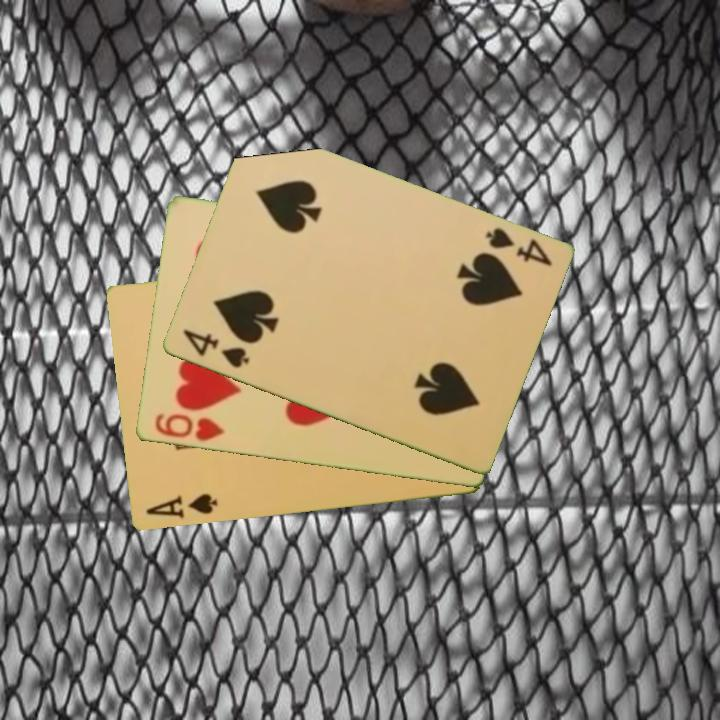4s: (481, 224, 555, 270), (179, 326, 252, 371)
6h: (151, 410, 227, 444)
As: (142, 490, 220, 522)
